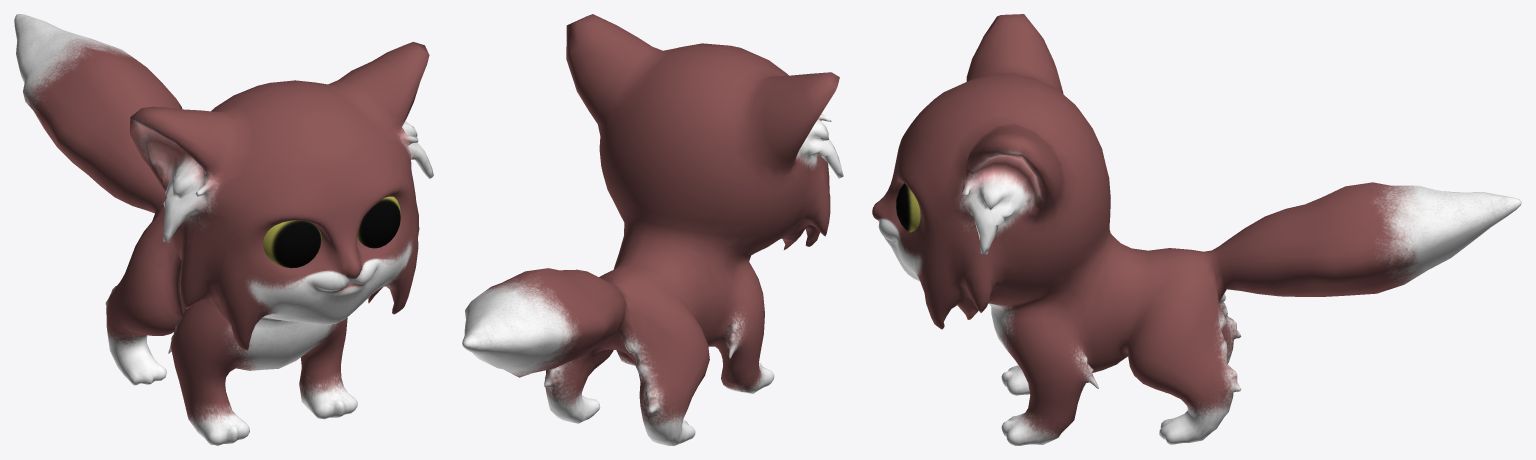
Rendered from Felixx.glb.
3 views of the same model, side by side, from view 1: azimuth 30°, elevation 25°; view 2: azimuth 150°, elevation 25°; view 3: azimuth 270°, elevation 25° (orthographic). The views are drawn at different scales.
Visible parts, largest first — view 1: CatMac; view 2: CatMac; view 3: CatMac.
Part boxes in pixels (box(x1,y1,x2,y2)): CatMac: box(14, 14, 433, 445); CatMac: box(462, 14, 843, 445); CatMac: box(872, 14, 1521, 445).
Size of the model in its own units: 0.3502 by 0.4 by 0.6968.
Materials: 2 (2 with a texture image).
